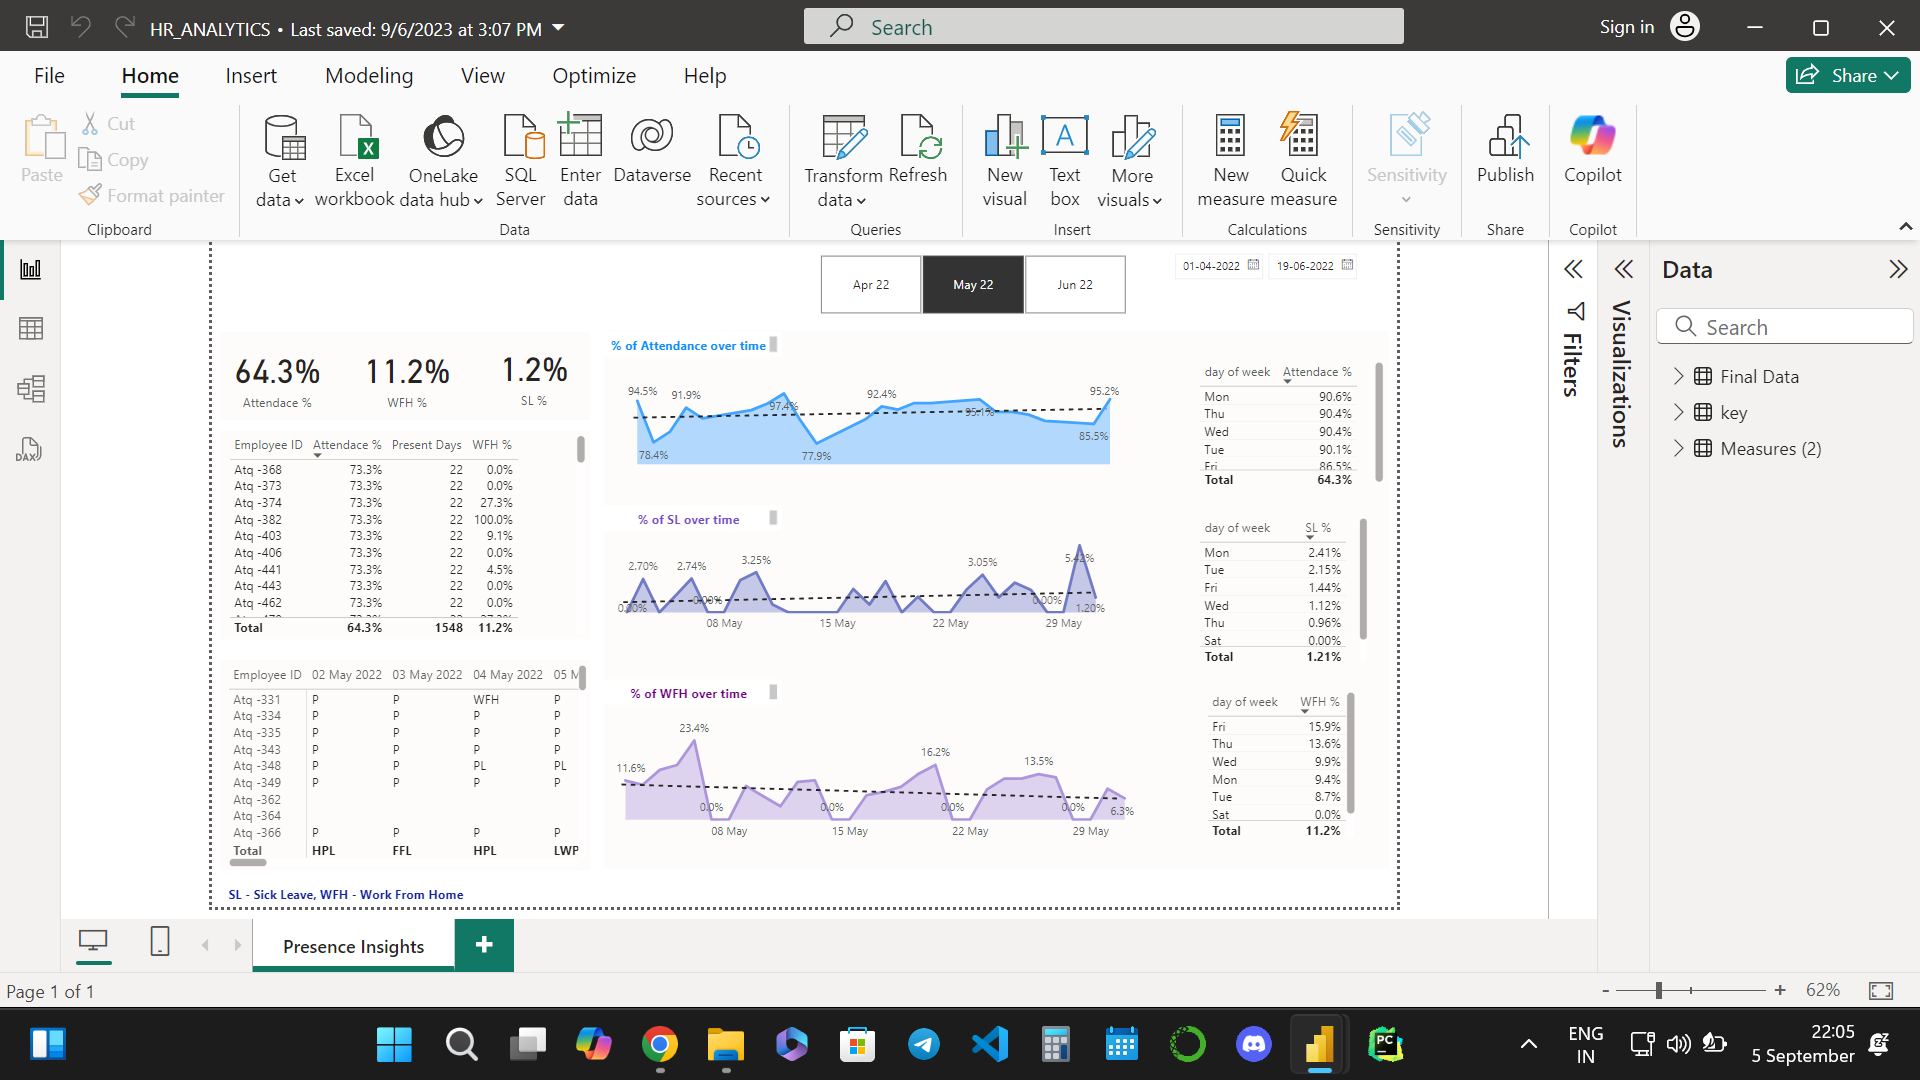

The page's visual inventory and layout, read from the dashboard file:
{"tool":"powerbi","page":{"name":"Presence Insights","canvas":[1280,720],"ordinal":0},"visuals":[{"type":"textbox","box":[7.8,205.6,399.9,225.5],"z":0},{"type":"textbox","box":[7.8,453.3,399.8,227.6],"z":1000},{"type":"textbox","box":[422.3,97.9,848.1,582.3],"z":2000},{"type":"textbox","box":[7.8,98,399.9,95.4],"z":3000},{"type":"tableEx","fields":{"Values":["Final Data.Employee ID","Measures (2).Attendace %","Measures (2).Present Days","Measures (2).WFH %"]},"box":[12.6,205.2,394.9,225.7],"z":4000},{"type":"slicer","fields":{"Values":["Final Data.Date"]},"box":[1027.3,5.2,252.7,46.3],"z":5000},{"type":"slicer","fields":{"Values":["Final Data.MMM YY"]},"box":[631,9.7,378.6,76],"z":6000},{"type":"areaChart","fields":{"Category":["Final Data.MMM YY","Final Data.Date"],"Y":["Measures (2).WFH %"]},"box":[420.7,502.3,589,153.5],"z":7000},{"type":"areaChart","fields":{"Category":["Final Data.WeekNo","Final Data.Date"],"Y":["Measures (2).Attendace %"]},"box":[444.1,144.9,540.4,103.2],"z":8000},{"type":"card","fields":{"Values":["Measures (2).Attendace %"]},"box":[7.8,98,124,96.3],"z":9000},{"type":"card","fields":{"Values":["Measures (2).WFH %"]},"box":[141.4,98,138.8,96.3],"z":10000},{"type":"areaChart","fields":{"Category":["Final Data.MMM YY","Final Data.Date"],"Y":["Measures (2).SL %"]},"box":[422.5,307.1,556,124],"z":11000},{"type":"card","fields":{"Values":["Measures (2).SL %"]},"box":[286.3,97.2,121.4,96.3],"z":13000},{"type":"textbox","box":[422.4,98.2,192.5,27.5],"z":15000},{"type":"textbox","box":[422.5,286.3,192.6,26.9],"z":16000},{"type":"textbox","box":[422.1,473.7,192.6,27.2],"z":17000},{"type":"pivotTable","fields":{"Rows":["Final Data.Employee ID"],"Columns":["Final Data.Date"],"Values":["Min(Final Data.Value)"]},"box":[12.9,453,396.4,228.1],"z":18000},{"type":"textbox","box":[13.6,691.6,289.8,28.2],"z":19000},{"type":"tableEx","fields":{"Values":["Final Data.day of week","Measures (2).Attendace %"]},"box":[1061.4,126.2,208.7,145.6],"z":20000},{"type":"tableEx","fields":{"Values":["Final Data.day of week","Measures (2).SL %"]},"box":[1060.9,294.1,191.7,167.4],"z":21000},{"type":"tableEx","fields":{"Values":["Final Data.day of week","Measures (2).WFH %"]},"box":[1068.7,483.2,170,167.4],"z":22000}]}

Visuals, with their boxes on the page's 1280x720 design canvas (x1, y1, x2, y2). These are canvas units, not pixel positions in the 1920x1080 screenshot, which may show the page scaled, cropped or inside an application window:
textbox: x1=8 y1=206 x2=408 y2=431
textbox: x1=8 y1=453 x2=408 y2=681
textbox: x1=422 y1=98 x2=1270 y2=680
textbox: x1=8 y1=98 x2=408 y2=193
tableEx - Final Data.Employee ID x Measures (2).Attendace %: x1=13 y1=205 x2=408 y2=431
slicer - Final Data.Date: x1=1027 y1=5 x2=1280 y2=52
slicer - Final Data.MMM YY: x1=631 y1=10 x2=1010 y2=86
areaChart - Final Data.MMM YY x Final Data.Date: x1=421 y1=502 x2=1010 y2=656
areaChart - Final Data.WeekNo x Final Data.Date: x1=444 y1=145 x2=984 y2=248
card - Measures (2).Attendace %: x1=8 y1=98 x2=132 y2=194
card - Measures (2).WFH %: x1=141 y1=98 x2=280 y2=194
areaChart - Final Data.MMM YY x Final Data.Date: x1=422 y1=307 x2=978 y2=431
card - Measures (2).SL %: x1=286 y1=97 x2=408 y2=194
textbox: x1=422 y1=98 x2=615 y2=126
textbox: x1=422 y1=286 x2=615 y2=313
textbox: x1=422 y1=474 x2=615 y2=501
pivotTable - Final Data.Employee ID x Final Data.Date: x1=13 y1=453 x2=409 y2=681
textbox: x1=14 y1=692 x2=303 y2=720
tableEx - Final Data.day of week x Measures (2).Attendace %: x1=1061 y1=126 x2=1270 y2=272
tableEx - Final Data.day of week x Measures (2).SL %: x1=1061 y1=294 x2=1253 y2=462
tableEx - Final Data.day of week x Measures (2).WFH %: x1=1069 y1=483 x2=1239 y2=651
